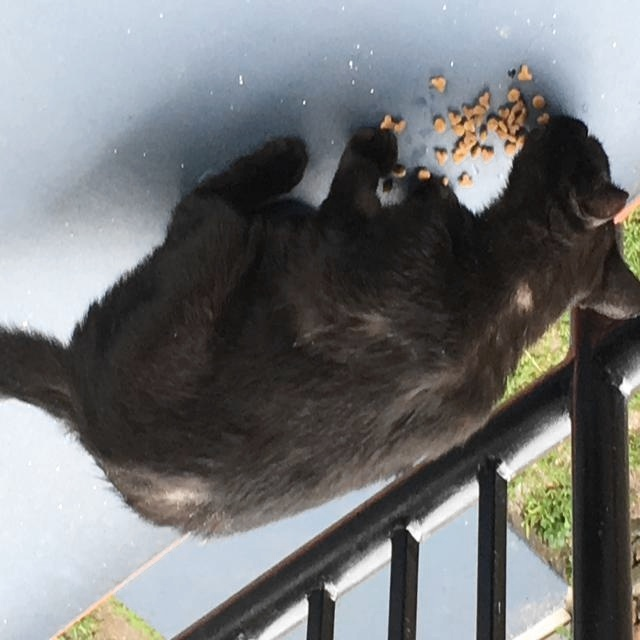hairloss: (155, 485, 206, 513), (519, 285, 531, 317)
